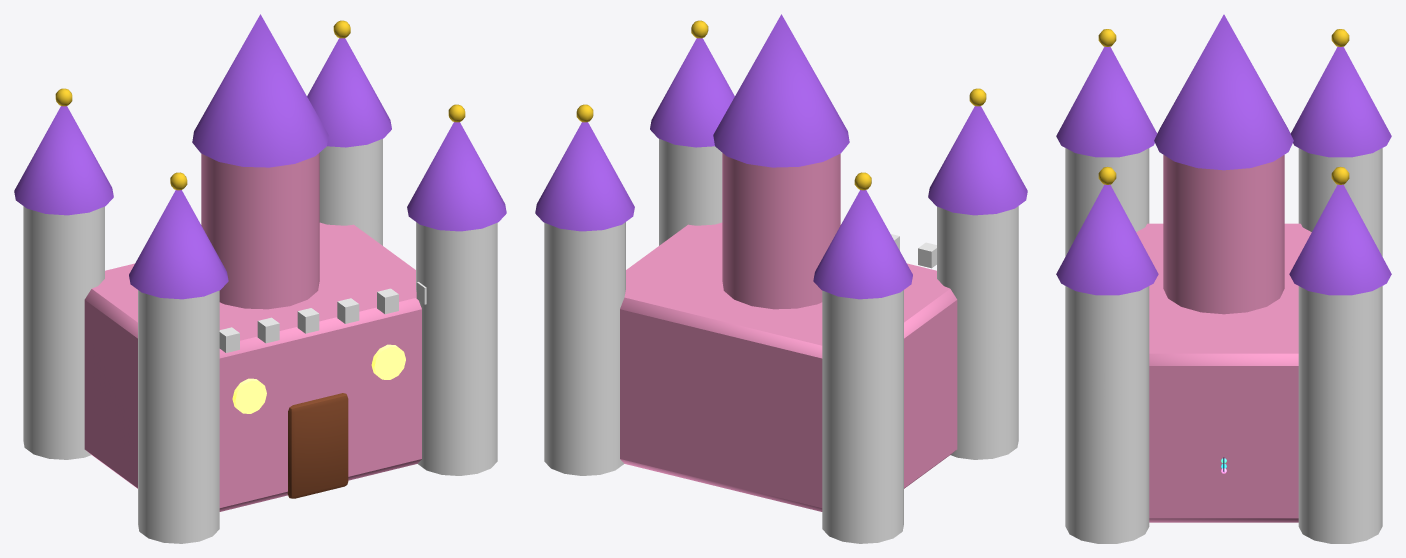
The model's file is candy.glb.
3 renders of one model, left to right at view 1: azimuth 30°, elevation 25°; view 2: azimuth 150°, elevation 25°; view 3: azimuth 270°, elevation 25°, orthographic.
Parts seen in each view (by area): view 1: candy_castle; view 2: candy_castle; view 3: candy_castle.
Boxes of the visible parts, x1=… form: candy_castle: x1=14, y1=14, x2=506, y2=543; candy_castle: x1=535, y1=14, x2=1027, y2=543; candy_castle: x1=1056, y1=14, x2=1391, y2=543.
Size of the model in its own units: 19.15 by 21.2 by 14.4.
